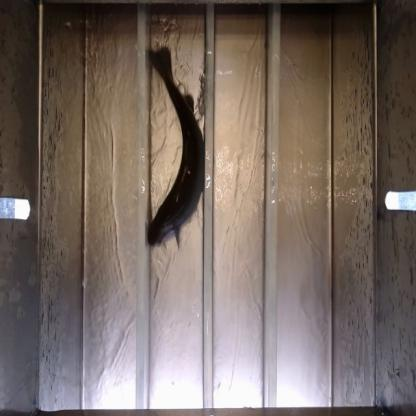pezw: (148, 43, 207, 248)
